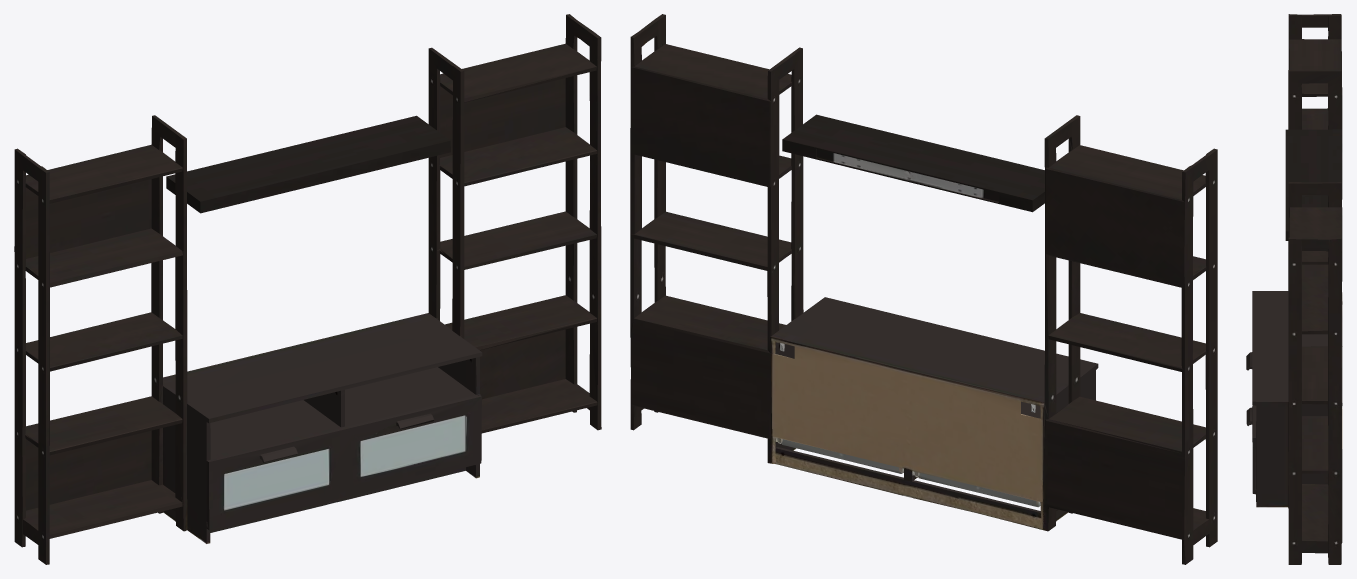
3 renders of one model, left to right at view 1: azimuth 30°, elevation 25°; view 2: azimuth 150°, elevation 25°; view 3: azimuth 270°, elevation 25°, orthographic. The views are drawn at different scales.
Parts seen in each view (by area): view 1: ProcessedMeshNode; view 2: ProcessedMeshNode; view 3: ProcessedMeshNode.
Part boxes in pixels (x1,y1,x2,y2): ProcessedMeshNode: (14, 14, 601, 564); ProcessedMeshNode: (630, 14, 1217, 564); ProcessedMeshNode: (1246, 14, 1342, 564).
Size of the model in its own units: 2.44 by 1.65 by 0.4397.
Materials: 2 (2 with a texture image).
